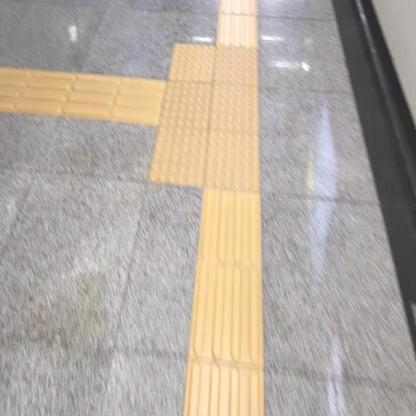podotacti: (131, 10, 282, 226), (181, 197, 263, 415), (0, 61, 157, 127), (217, 0, 258, 45)
